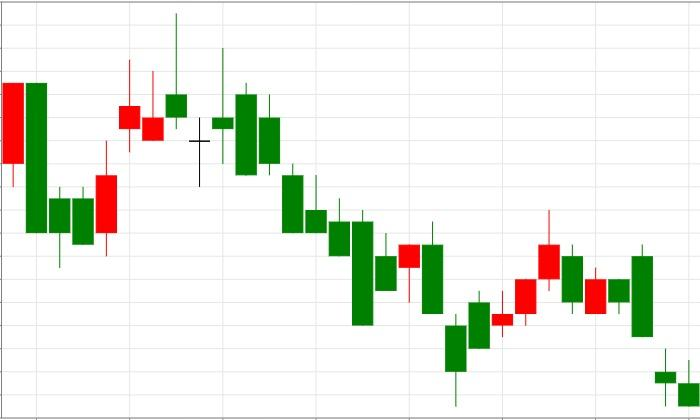bullish_engulfing_rise: (235, 83, 444, 325)
shooting_star_fall: (49, 14, 188, 268)
